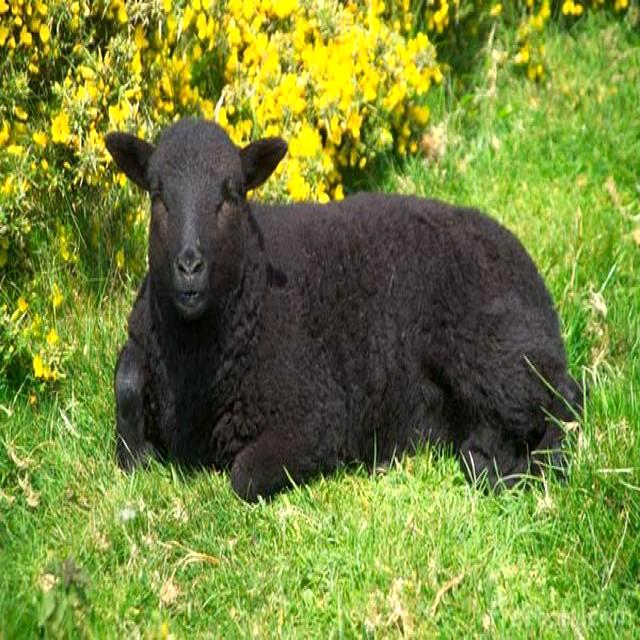sheep: (105, 118, 588, 496)
